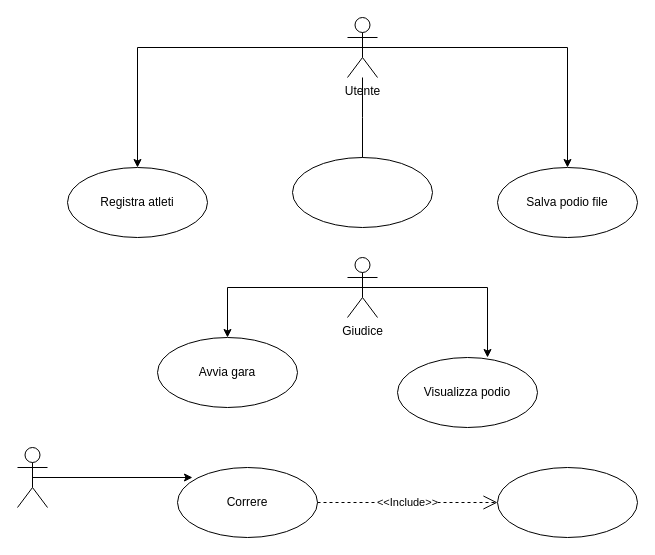
This 655x555 diagram has some shape labels left out. The box of each missing label's shape, as (x1, y1, x2, y2) in pixels:
Atleta: (16, 446, 48, 508)
eventi anomali: (496, 466, 638, 538)
Scegli lungheza gara: (292, 156, 432, 228)
